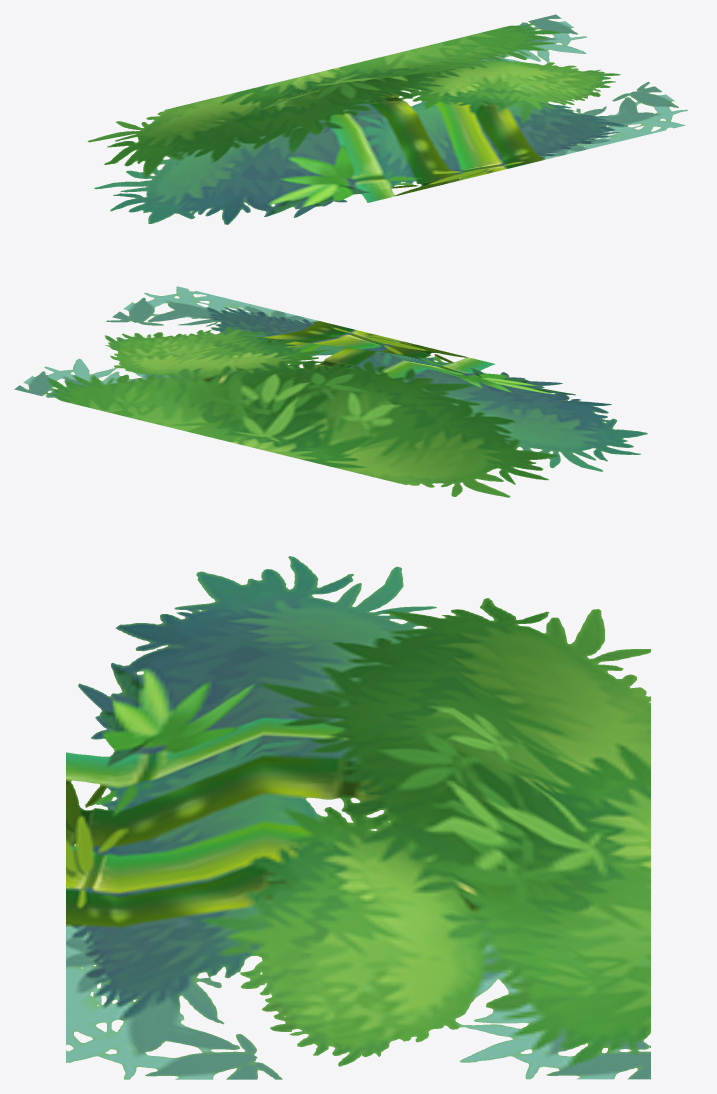
File: Chapter2Scene1Model12.FBX
3 views of the same model, one above another, from view 1: azimuth 30°, elevation 25°; view 2: azimuth 150°, elevation 25°; view 3: azimuth 270°, elevation 25° (orthographic). The views are drawn at different scales.
Visible parts, largest first — view 1: Chapter2Scene1Model12; view 2: Chapter2Scene1Model12; view 3: Chapter2Scene1Model12.
Part boxes in pixels (x1,y1,x2,y2): Chapter2Scene1Model12: (87,14,687,224); Chapter2Scene1Model12: (14,286,647,497); Chapter2Scene1Model12: (66,556,650,1079).
Bounding box in the file's own units: 181 × 84.53 × 10.27.
